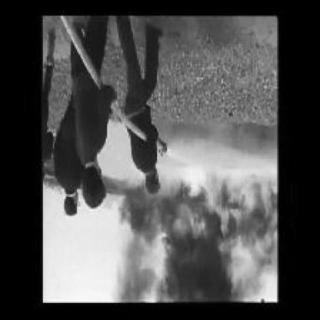Fire: (133, 167, 273, 239)
Smoke: (115, 242, 248, 304)
